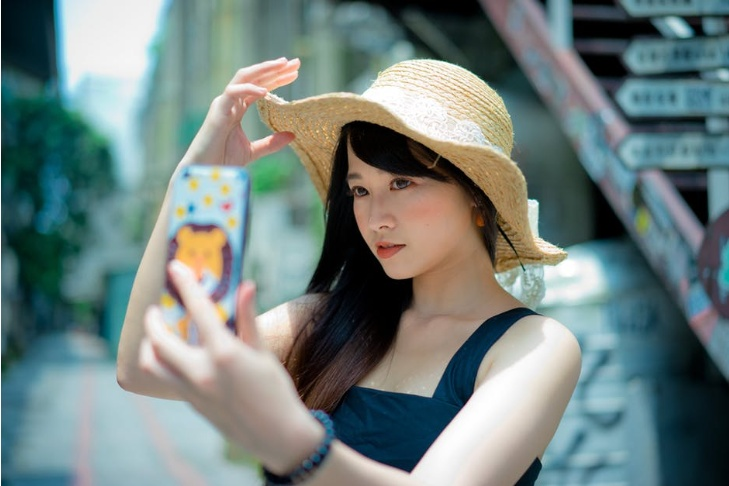face: (345, 137, 459, 279)
